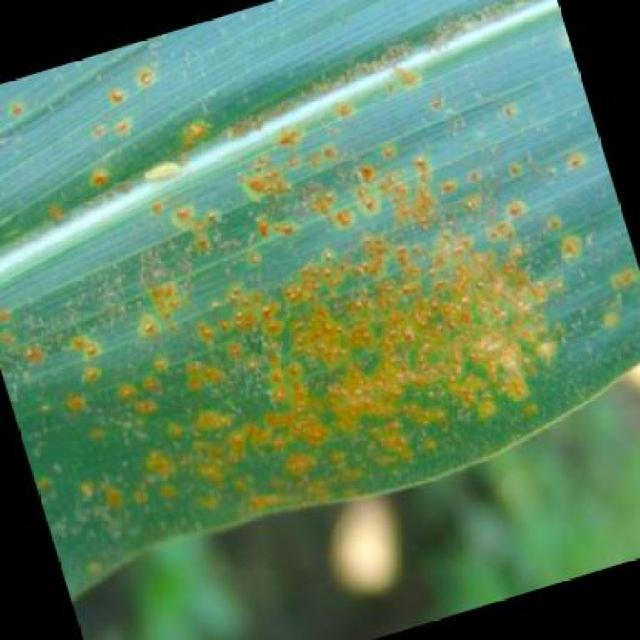Corn_Rust: (66, 69, 579, 557)
